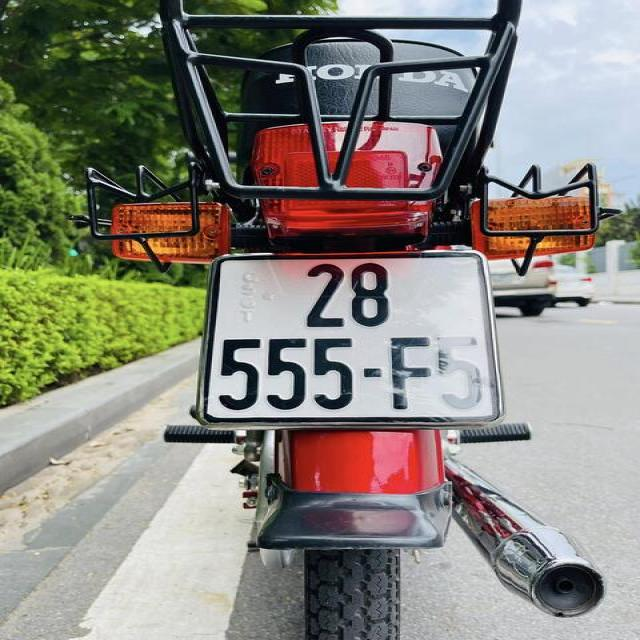motorcycle: (95, 0, 621, 640)
plate: (188, 241, 518, 439)
